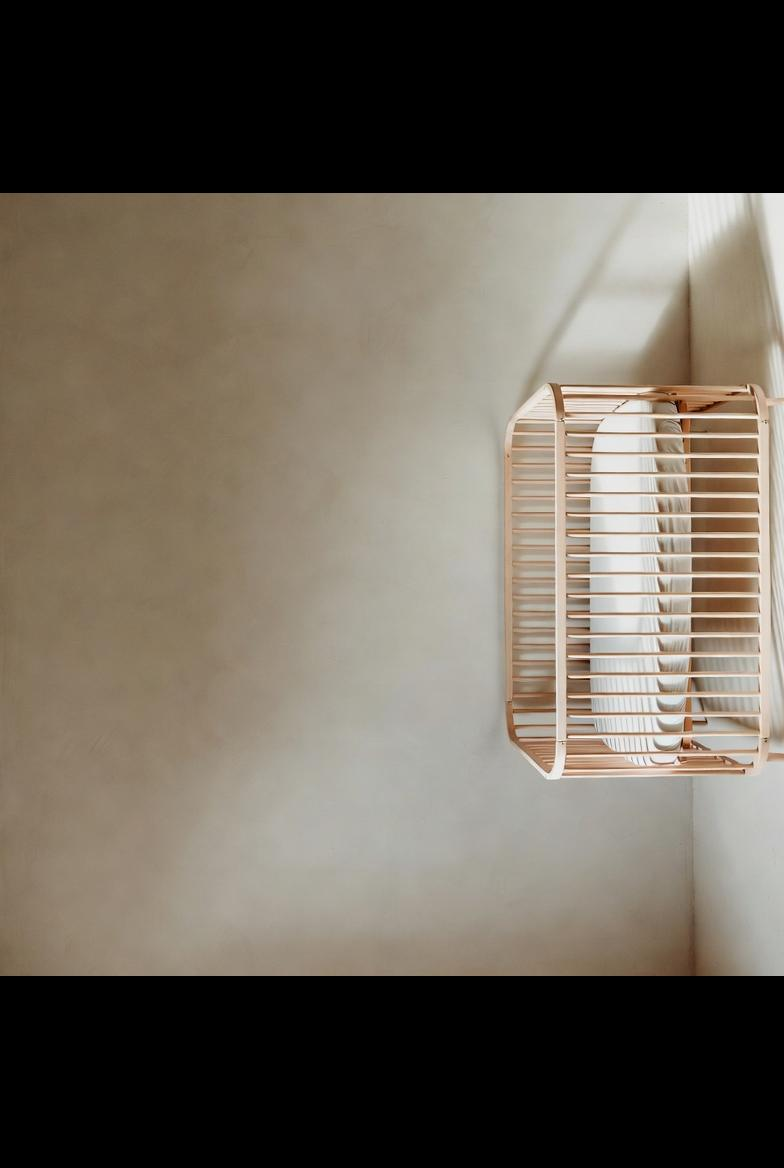crib: (504, 383, 784, 778)
